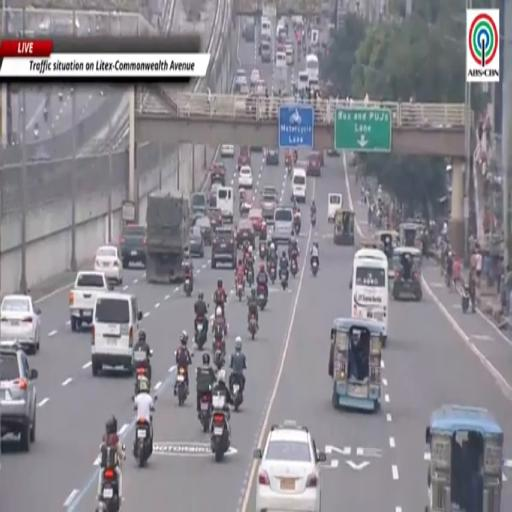bus: (351, 249, 389, 344), (306, 54, 318, 79)
car: (254, 421, 326, 511), (0, 341, 37, 452), (0, 295, 41, 354), (120, 224, 146, 268), (94, 246, 122, 284), (211, 227, 236, 268), (272, 206, 293, 246), (236, 218, 256, 248), (261, 186, 278, 220), (189, 226, 204, 258), (195, 217, 212, 245), (238, 190, 254, 215), (248, 207, 263, 233), (191, 192, 207, 216), (306, 152, 321, 177), (210, 163, 226, 185), (209, 208, 223, 231), (239, 166, 253, 188), (238, 147, 250, 170), (242, 23, 255, 42), (254, 79, 266, 97), (266, 149, 279, 165), (235, 69, 247, 86), (250, 68, 260, 86), (221, 144, 234, 157), (209, 190, 217, 210), (327, 148, 339, 157), (318, 150, 324, 167), (240, 84, 250, 94), (276, 42, 285, 52), (285, 42, 293, 53)
jeepney: (426, 406, 503, 511), (329, 318, 384, 410), (390, 247, 422, 300), (374, 230, 399, 271), (334, 210, 354, 246), (399, 222, 423, 249)
motorcycle: (211, 394, 230, 461), (97, 468, 120, 511), (134, 420, 152, 467), (132, 349, 152, 389), (199, 393, 212, 433), (195, 316, 207, 349), (231, 375, 242, 411), (135, 366, 150, 392), (177, 367, 187, 406), (213, 327, 225, 357), (248, 314, 258, 340), (214, 297, 226, 317), (258, 285, 267, 310), (214, 350, 224, 371), (183, 275, 193, 296), (280, 270, 288, 290), (246, 267, 254, 287), (237, 280, 244, 301), (269, 263, 276, 284), (259, 240, 266, 259), (311, 258, 318, 276), (294, 216, 300, 236), (291, 259, 297, 278), (311, 213, 316, 228), (286, 164, 292, 174)
truck: (146, 191, 190, 283), (69, 271, 112, 332)
